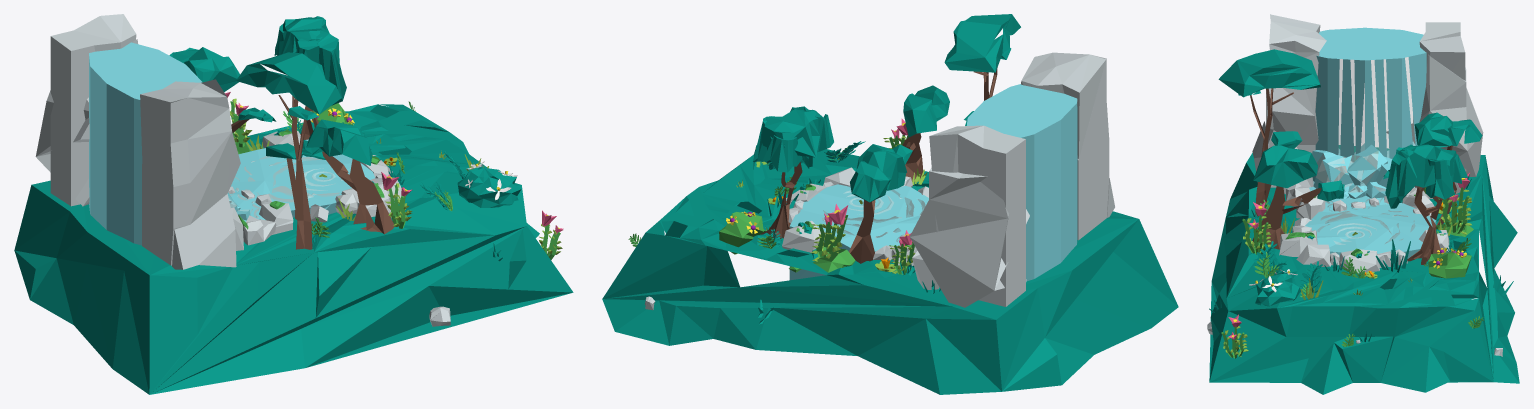
3 renders of one model, left to right at view 1: azimuth 30°, elevation 25°; view 2: azimuth 150°, elevation 25°; view 3: azimuth 270°, elevation 25°, orthographic. The views are drawn at different scales.
Visible parts, largest first — view 1: Node; view 2: Node; view 3: Node.
Part boxes in pixels (left/top/right/bottom): Node: left=14, top=14, right=573, bottom=394; Node: left=602, top=14, right=1178, bottom=394; Node: left=1207, top=14, right=1519, bottom=394.
Bounding box in the file's own units: 2.93 × 1.7 × 2.06.
2 materials, 2 textured.
